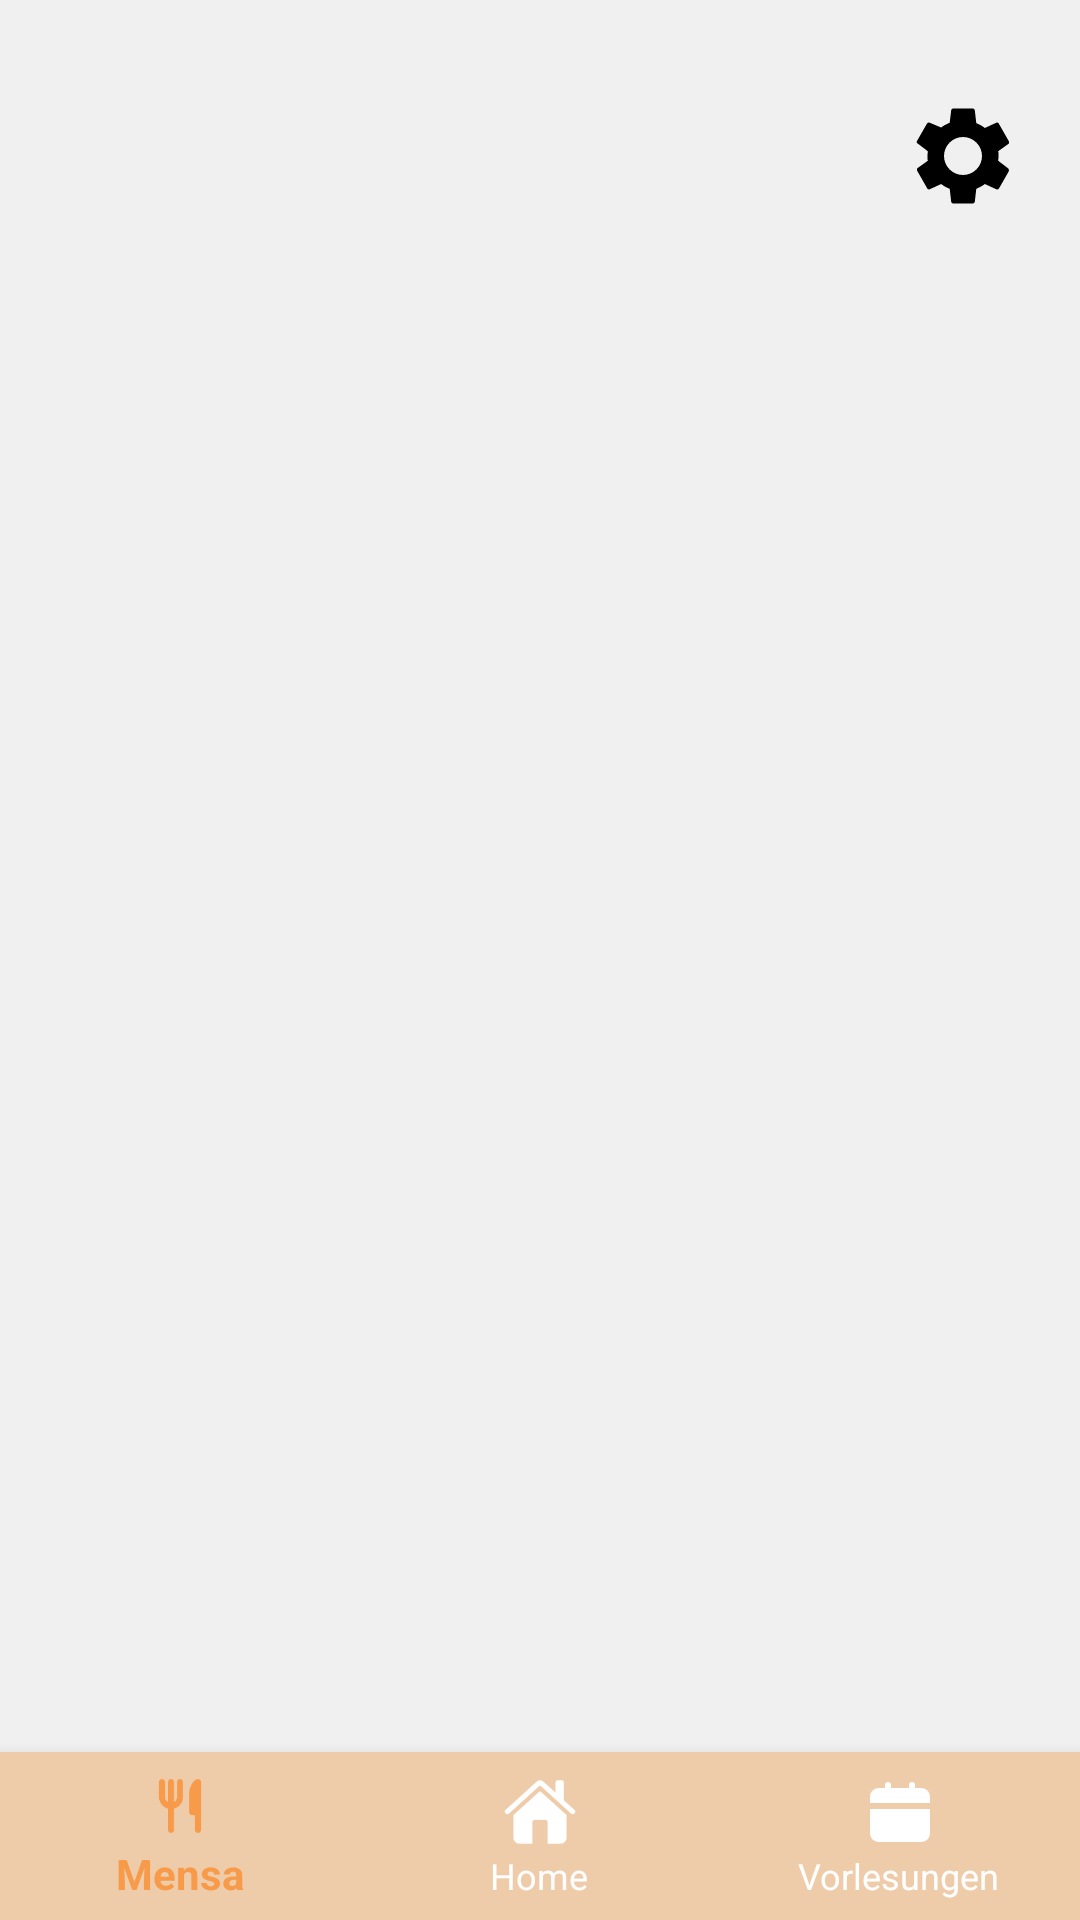

Named icons in this screenshot (1080×1920) and their centers, [x,y]:
Einstellungen: [962,156]
